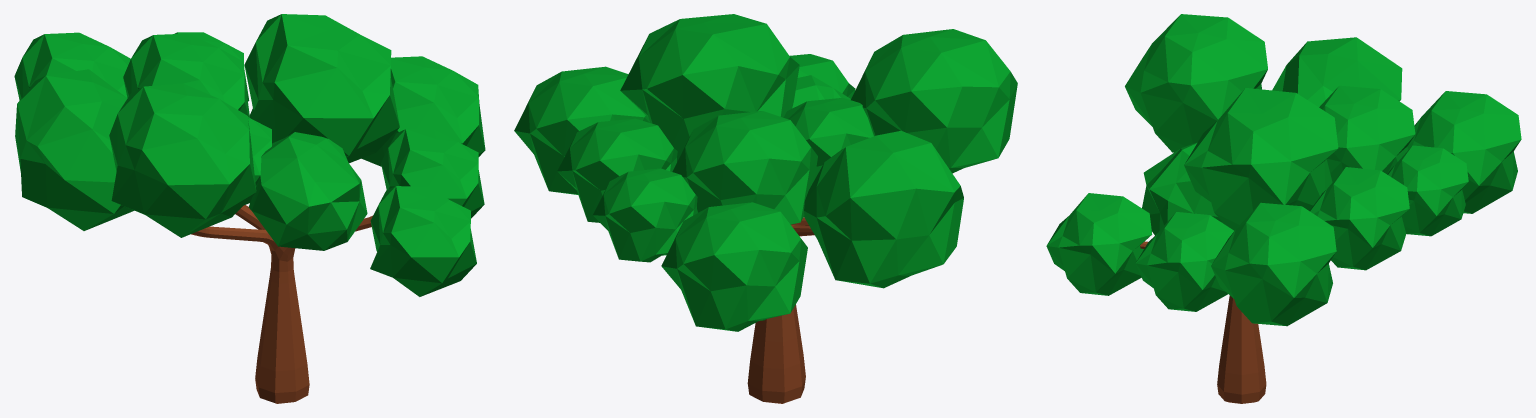
Rendered from Tree1.fbx.
3 renders of one model, left to right at view 1: azimuth 30°, elevation 25°; view 2: azimuth 150°, elevation 25°; view 3: azimuth 270°, elevation 25°, orthographic. The views are drawn at different scales.
Parts seen in each view (by area): view 1: Leaves, Leaves7, Leaves1, Leaves8, Leaves10, Trunk, Leaves5, Leaves6, Leaves11, Leaves2, Leaves9, Leaves3; view 2: Leaves1, Leaves, Leaves7, Leaves2, Leaves6, Leaves5, Leaves3, Leaves4, Trunk, Leaves9, Leaves10, Leaves8; view 3: Leaves7, Leaves, Leaves5, Leaves2, Leaves10, Leaves4, Leaves11, Leaves6, Leaves1, Leaves3, Trunk, Leaves8.
Part boxes in pixels (x1=…): Leaves: x1=109, y1=83, x2=256, y2=237; Leaves7: x1=244, y1=14, x2=399, y2=163; Leaves1: x1=15, y1=69, x2=134, y2=230; Leaves8: x1=248, y1=132, x2=367, y2=250; Leaves10: x1=370, y1=186, x2=476, y2=296; Trunk: x1=191, y1=205, x2=372, y2=403; Leaves5: x1=361, y1=56, x2=485, y2=166; Leaves6: x1=123, y1=33, x2=249, y2=117; Leaves11: x1=381, y1=129, x2=484, y2=218; Leaves2: x1=14, y1=32, x2=130, y2=100; Leaves9: x1=244, y1=117, x2=271, y2=205; Leaves3: x1=174, y1=32, x2=249, y2=101; Leaves1: x1=804, y1=130, x2=963, y2=288; Leaves: x1=851, y1=29, x2=1017, y2=173; Leaves7: x1=620, y1=14, x2=799, y2=161; Leaves2: x1=661, y1=202, x2=807, y2=331; Leaves6: x1=672, y1=111, x2=817, y2=224; Leaves5: x1=514, y1=66, x2=650, y2=194; Leaves3: x1=593, y1=168, x2=697, y2=262; Leaves4: x1=557, y1=118, x2=677, y2=222; Trunk: x1=747, y1=217, x2=814, y2=403; Leaves9: x1=783, y1=97, x2=873, y2=179; Leaves10: x1=790, y1=54, x2=855, y2=98; Leaves8: x1=792, y1=75, x2=850, y2=108; Leaves7: x1=1184, y1=88, x2=1338, y2=230; Leaves: x1=1125, y1=14, x2=1267, y2=152; Leaves5: x1=1211, y1=202, x2=1336, y2=326; Leaves2: x1=1407, y1=91, x2=1521, y2=213; Leaves10: x1=1046, y1=193, x2=1152, y2=295; Leaves4: x1=1309, y1=167, x2=1409, y2=270; Leaves11: x1=1135, y1=212, x2=1233, y2=311; Leaves6: x1=1319, y1=85, x2=1415, y2=182; Leaves1: x1=1272, y1=37, x2=1402, y2=107; Leaves3: x1=1387, y1=145, x2=1468, y2=236; Trunk: x1=1140, y1=241, x2=1266, y2=403; Leaves8: x1=1142, y1=142, x2=1223, y2=235.
Size of the model in its own units: 1724 by 1362 by 1843.
